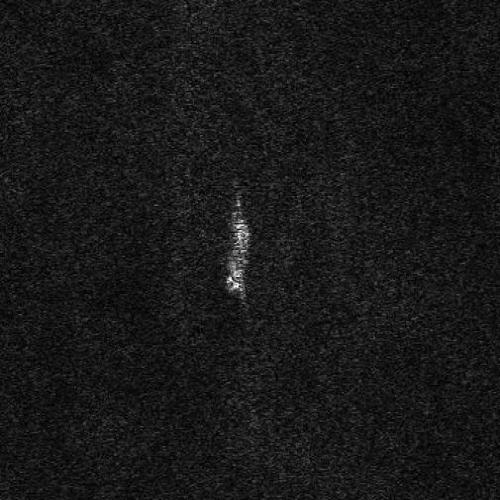ship: (226, 216, 251, 299)
